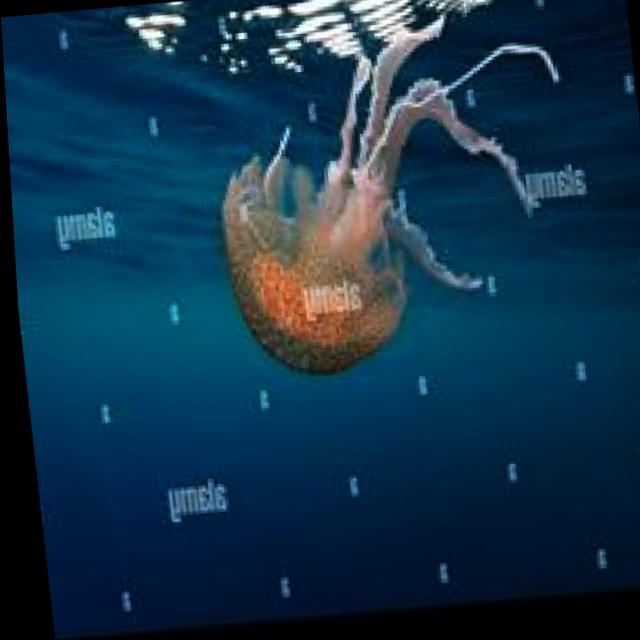Box-jellyfish: (198, 4, 591, 384)
